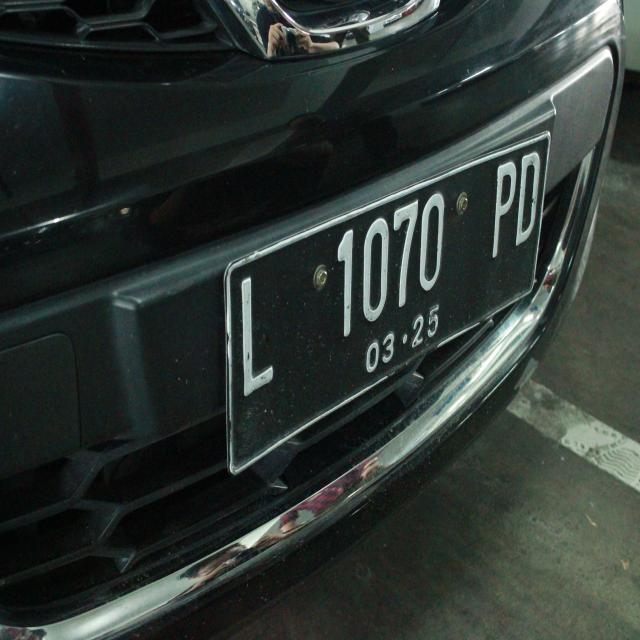0: (420, 192, 448, 297)
1: (325, 226, 361, 340)
7: (394, 195, 422, 312)
A: (364, 212, 392, 328)
D: (514, 146, 542, 254)
L: (224, 258, 288, 404)
P: (484, 154, 516, 262)
